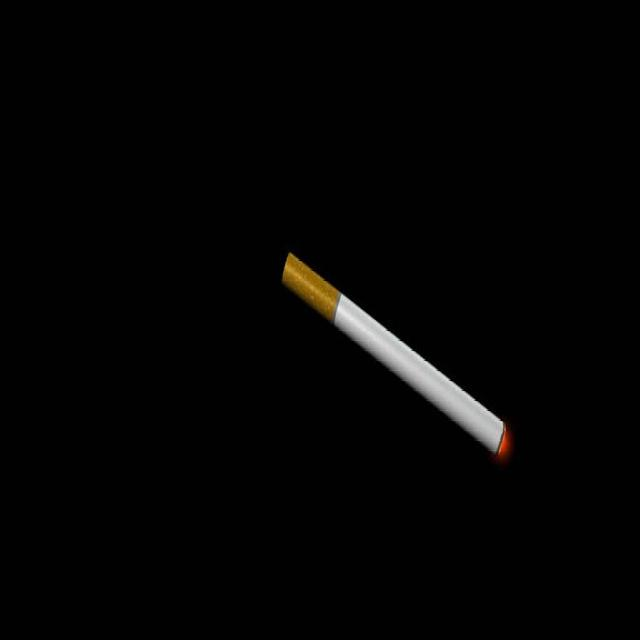smoking: (281, 248, 512, 464)
